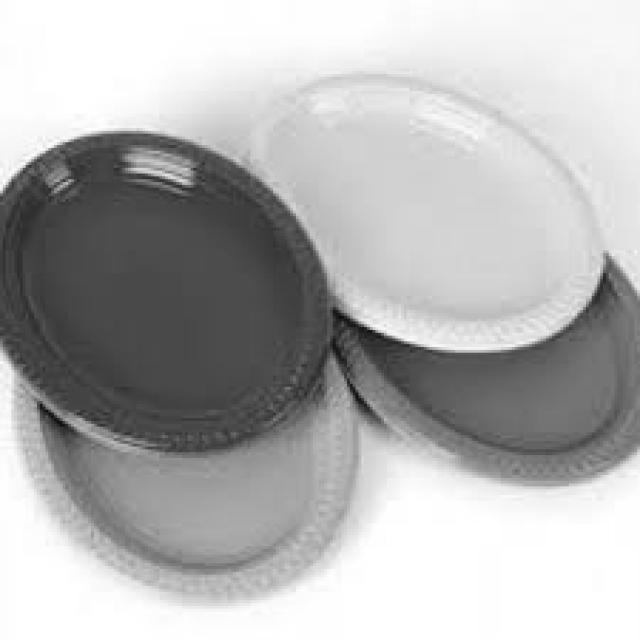dish: (5, 39, 619, 491)
